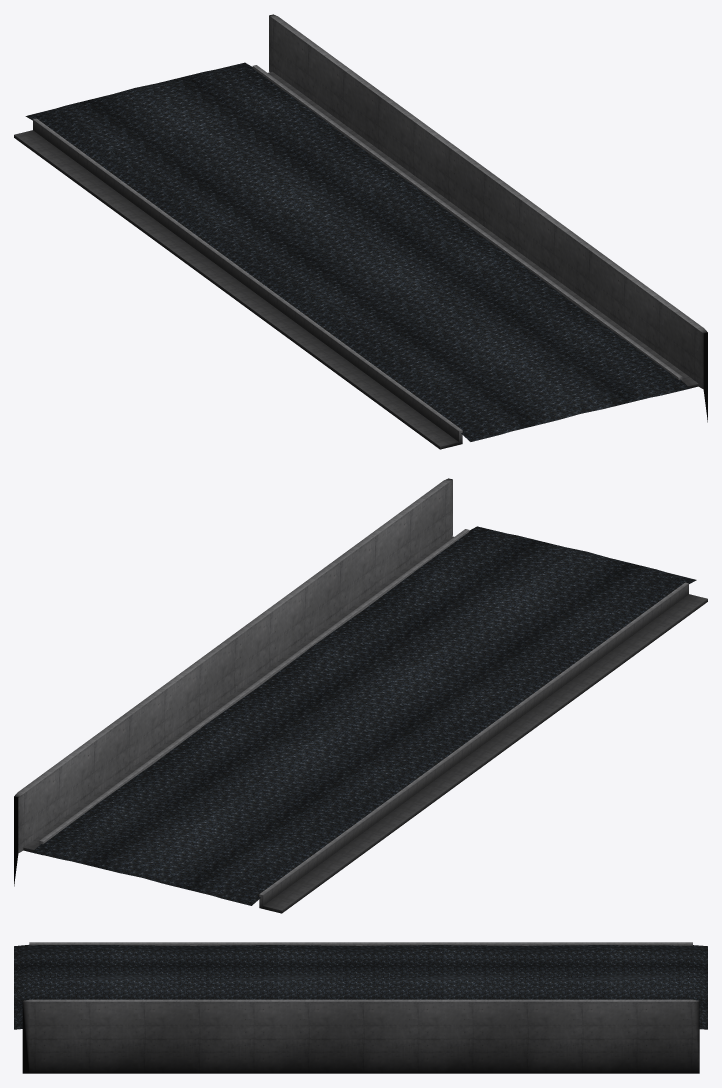
The model's file is AMB_JARI_SIN_L_WALL.glb.
3 views of the same model, one above another, from view 1: azimuth 30°, elevation 25°; view 2: azimuth 150°, elevation 25°; view 3: azimuth 270°, elevation 25° (orthographic). The views are drawn at different scales.
Parts seen in each view (by area): view 1: Mesh1; view 2: Mesh1; view 3: Mesh1.
Boxes of the visible parts, bbox=[...] form: Mesh1: bbox=[14, 14, 707, 449]; Mesh1: bbox=[14, 478, 707, 913]; Mesh1: bbox=[14, 942, 707, 1073].
Size of the model in its own units: 35.82 by 11.93 by 105.
Materials: 2 (2 with a texture image).
